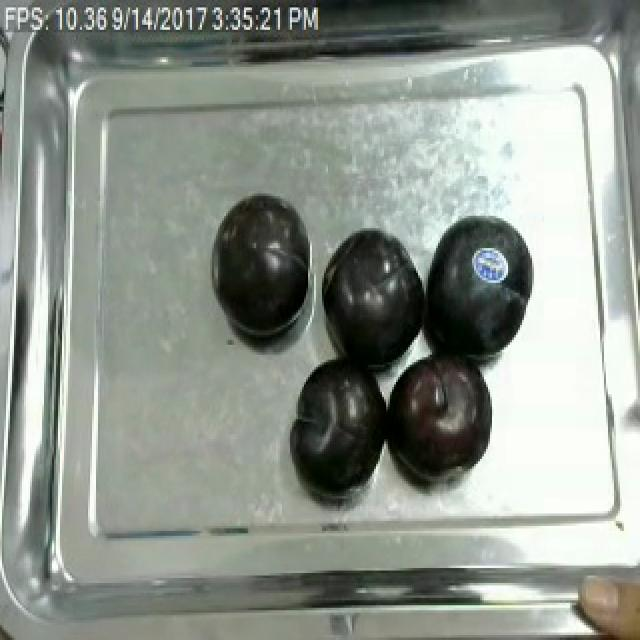Fruit: (416, 203, 540, 370), (320, 218, 434, 380), (208, 188, 314, 345), (286, 350, 396, 496), (380, 345, 496, 481), (568, 550, 640, 640)
